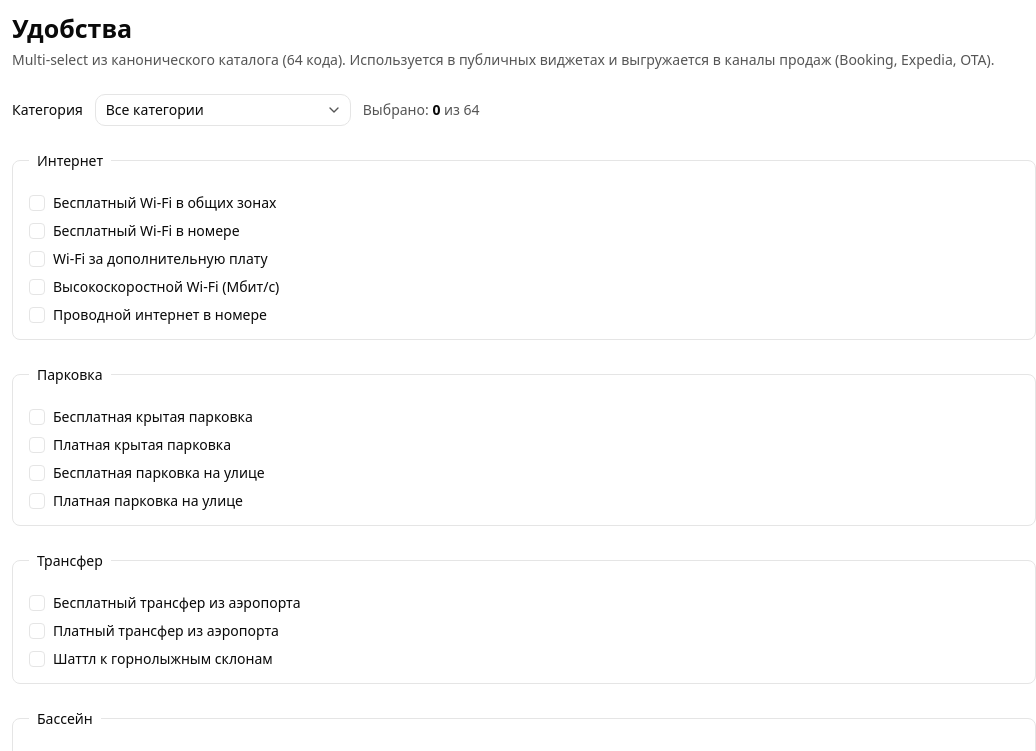
Test case: <AmenitiesStep> — toggle › [Tg4] supportsValue=true amenity (AMN_WIFI_HIGH_SPEED) — value Input appears once checked
The width and height of the screenshot is (1036, 751).
Click the checkbox named "Высокоскоростной Wi-Fi" next to "Высокоскоростной Wi-Fi (Мбит/с)": (37,286) [29,278,45,294]
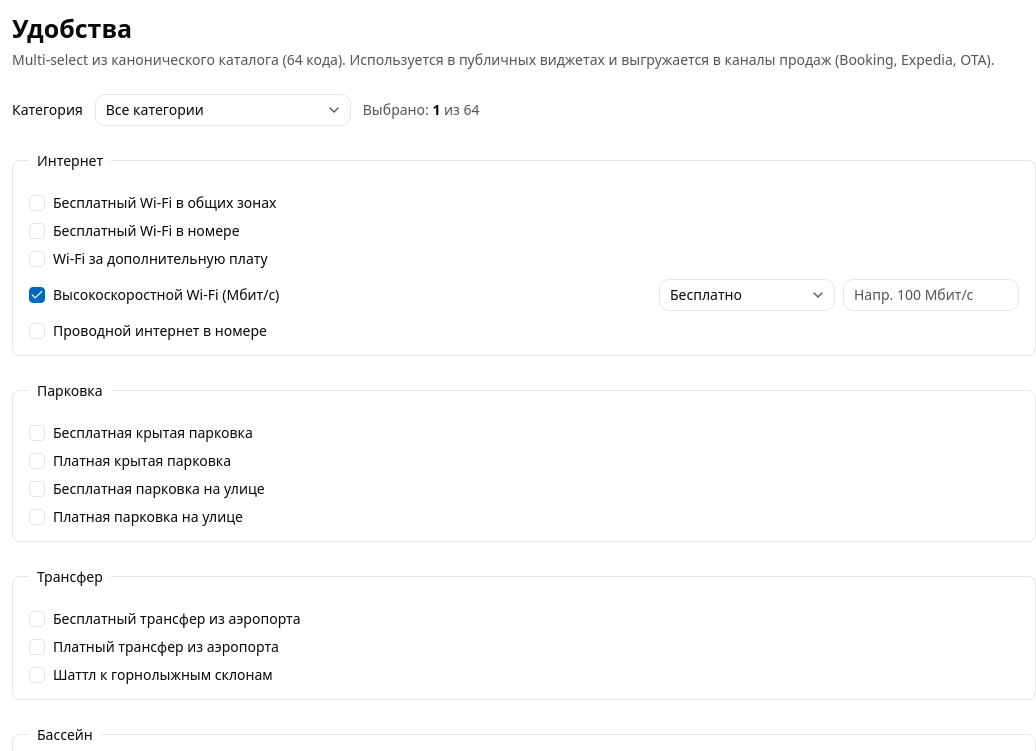
Check: the field named "Значение для Высокоскоростной Wi-Fi" is shown, box [843,278,1019,310]
